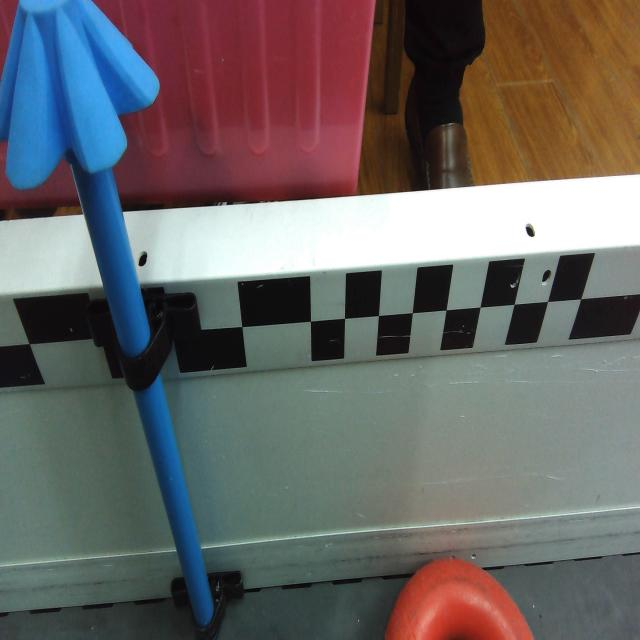Red-Ring: (384, 560, 534, 640)
zblue-Stake-Head: (0, 0, 160, 190)
